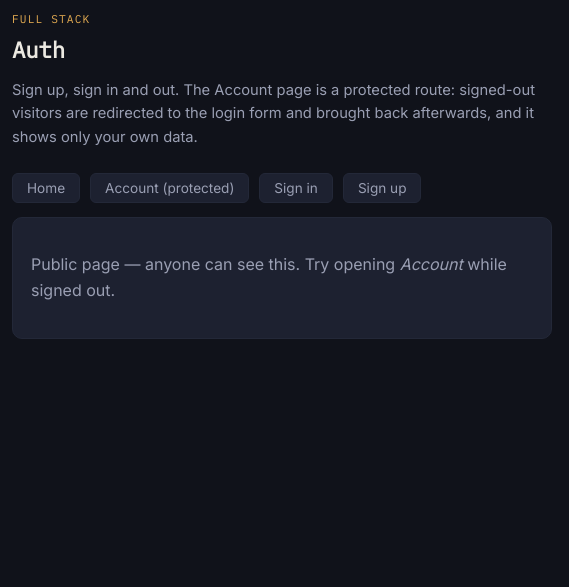
Test: Task 36 – auth › redirects a signed-out visitor from the protected route to the login form
Click the link "Account (protected)": coordinates (170, 188) [90,174,249,204]
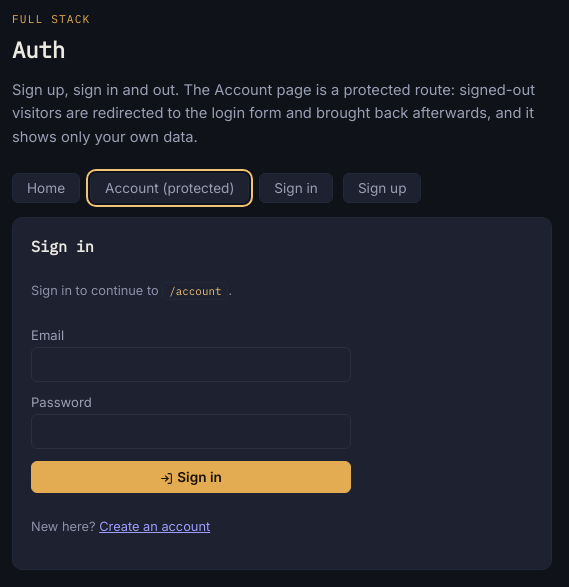
Expected: the heading "Sign in" is shown, [31,236,94,256]
Expected: the text "Sign in to continue to /account." is shown, [31,282,232,300]
